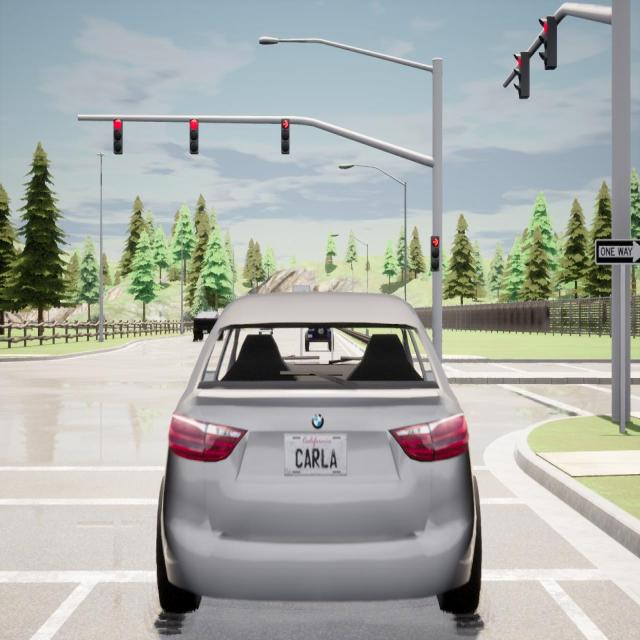Traffic_Signs: (596, 239, 640, 265)
Vehicle: (156, 292, 481, 612), (190, 307, 220, 346), (304, 328, 336, 353)
traffic_light: (538, 16, 557, 71), (513, 52, 530, 100), (431, 235, 441, 273), (113, 117, 123, 155), (281, 118, 290, 156), (190, 118, 198, 154)
